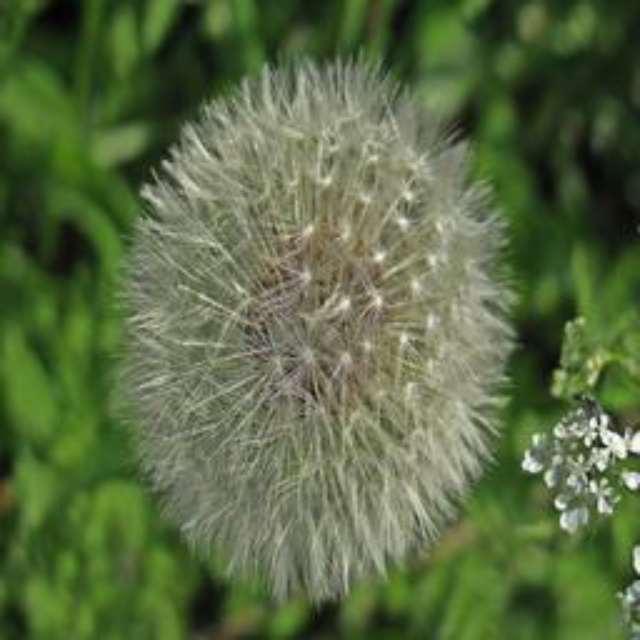dandelion: (97, 50, 525, 611)
